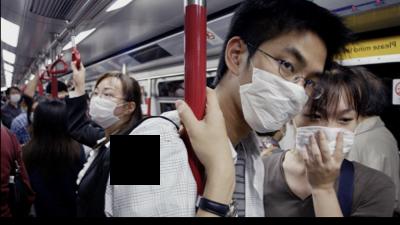with_mask: (237, 45, 323, 132), (293, 100, 357, 166), (86, 84, 122, 129), (8, 89, 19, 103)
